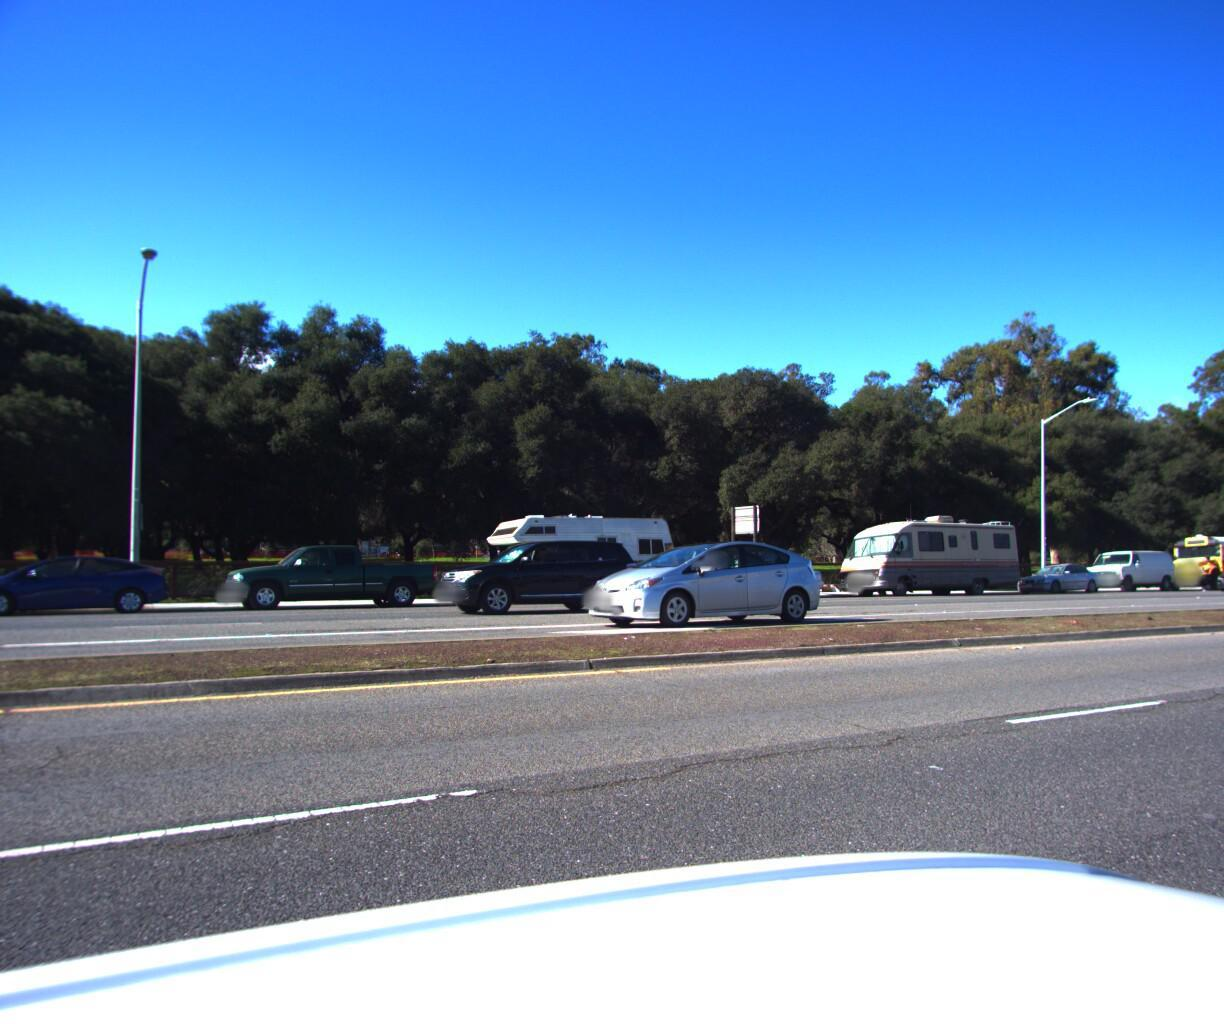bus: (1148, 526, 1224, 586)
car: (567, 539, 830, 633), (433, 541, 642, 614), (220, 543, 445, 610), (700, 554, 832, 599), (1074, 543, 1178, 587), (1008, 558, 1107, 591), (1204, 557, 1224, 588)
other_vehicle: (470, 505, 685, 605), (825, 504, 1025, 594)
